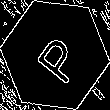P_NW: (26, 25, 84, 85)
